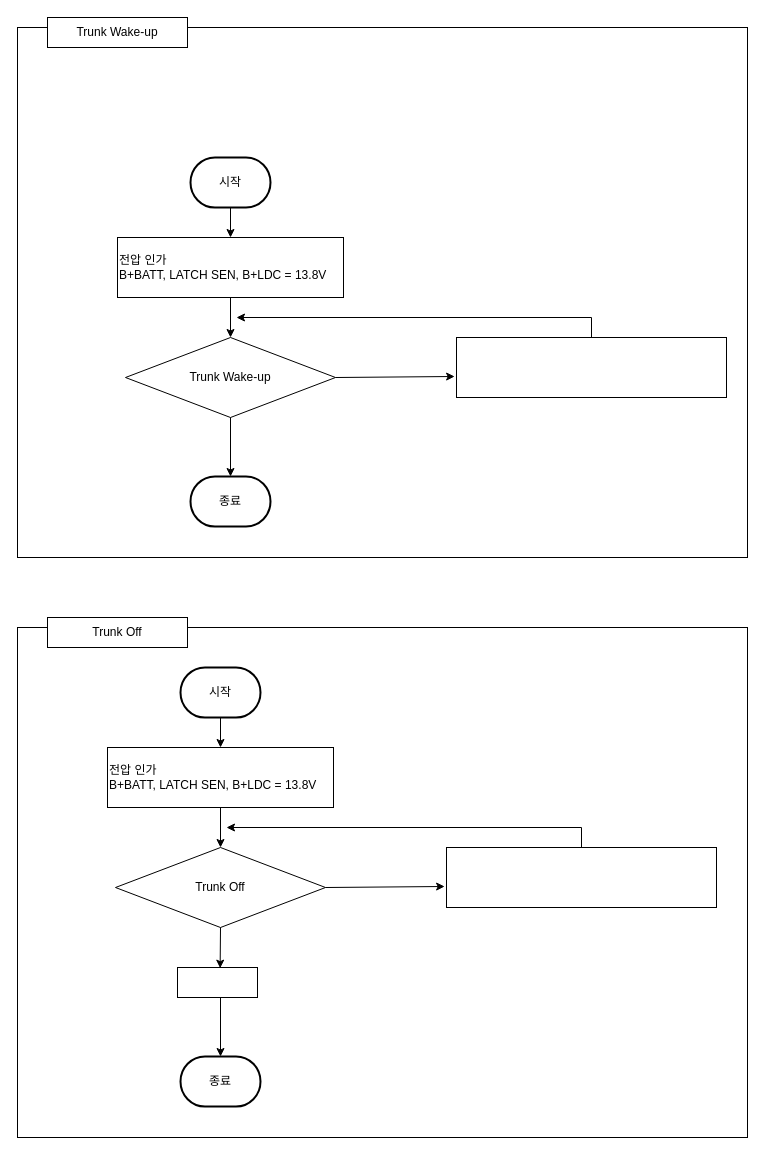
Some shapes in this 765 by 1155 pixel diagram are drawn without their labels. The centre of each missing label's shape, as x and y in pixels:
"sleep" goes at point (217, 982).
"Trunk = 13.8v 이상" goes at point (581, 877).
"Trunk = 2.2v 이하" goes at point (591, 367).
